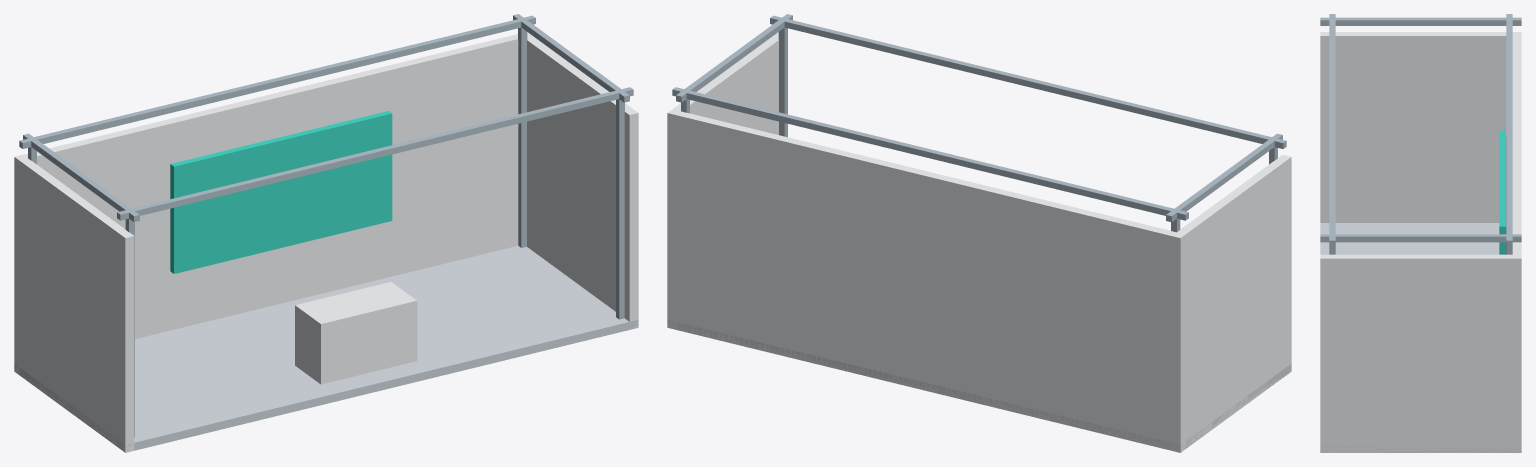
3 renders of one model, left to right at view 1: azimuth 30°, elevation 25°; view 2: azimuth 150°, elevation 25°; view 3: azimuth 270°, elevation 25°, orthographic. The views are drawn at different scales.
Parts seen in each view (by area): view 1: Exhibition Booth Concept; view 2: Exhibition Booth Concept; view 3: Exhibition Booth Concept.
Part boxes in pixels (x1,y1,x2,y2): Exhibition Booth Concept: [14, 14, 638, 452]; Exhibition Booth Concept: [667, 14, 1291, 452]; Exhibition Booth Concept: [1320, 14, 1521, 452].
Size of the model in its own units: 8 by 3.49 by 3.
